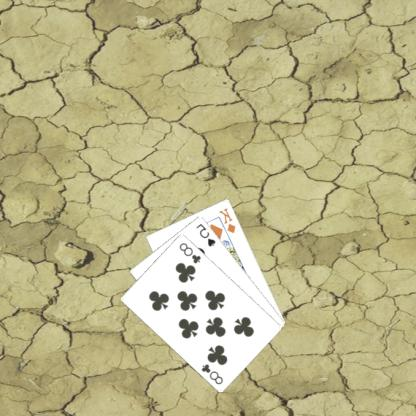5S: (195, 220, 219, 248)
8C: (178, 240, 204, 264), (200, 361, 226, 385)
KD: (218, 205, 238, 234)
